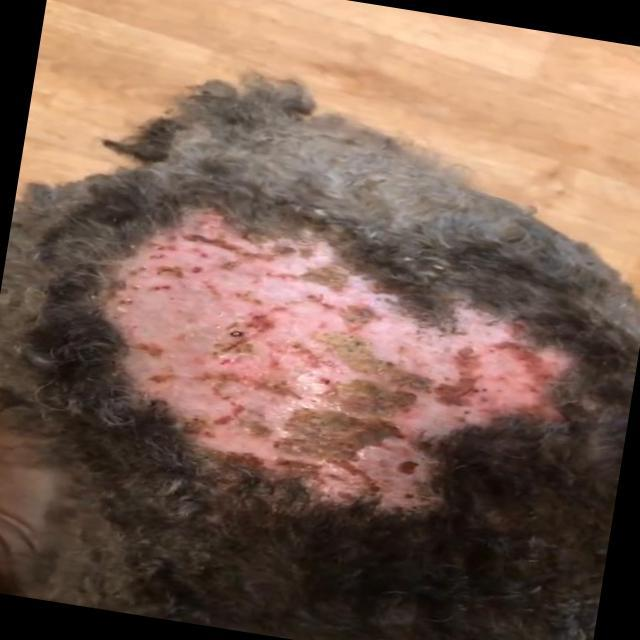allergic dermatitis: (100, 208, 572, 540)
